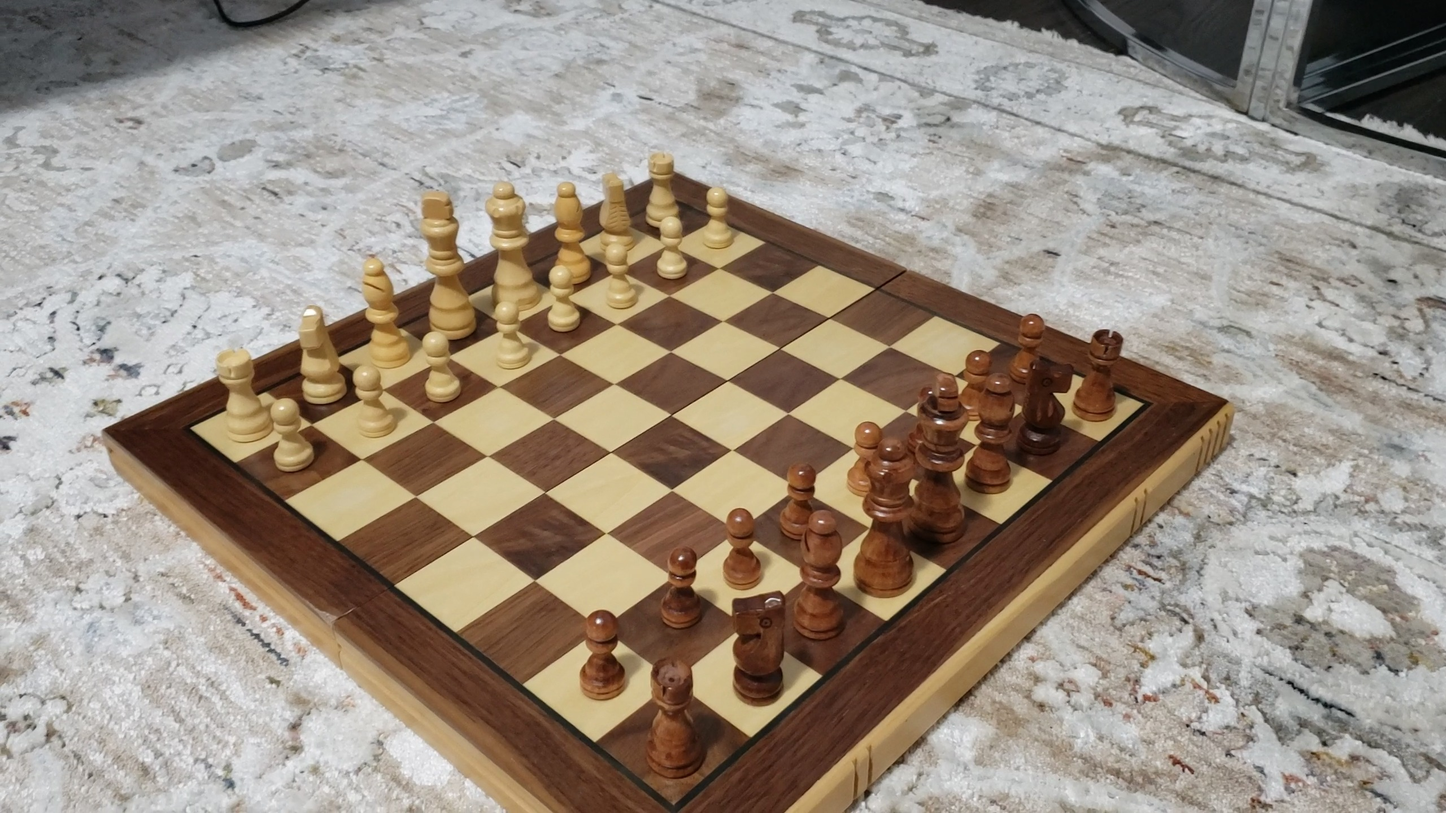black-bishop: (794, 508, 848, 641), (965, 369, 1020, 491)
black-king: (908, 374, 974, 543)
black-knight: (728, 592, 790, 706), (1016, 348, 1076, 459)
black-pawn: (576, 607, 628, 703), (659, 542, 704, 631), (778, 458, 823, 543), (720, 504, 763, 591), (1005, 308, 1048, 390), (844, 418, 886, 499), (953, 347, 995, 419)
black-queen: (852, 421, 923, 598)
black-rook: (643, 656, 705, 779), (1070, 326, 1125, 422)
white-bishop: (358, 253, 408, 371), (551, 178, 592, 290)
white-king: (416, 183, 474, 342)
white-knight: (279, 294, 354, 407), (589, 164, 644, 249)
white-pawn: (484, 285, 538, 376), (264, 394, 319, 478), (415, 325, 466, 408), (347, 363, 399, 443), (596, 233, 645, 315), (540, 260, 589, 336), (650, 212, 694, 286), (697, 180, 739, 256)
white-queen: (485, 176, 535, 314)
white-rook: (212, 344, 274, 445), (642, 147, 682, 232)
